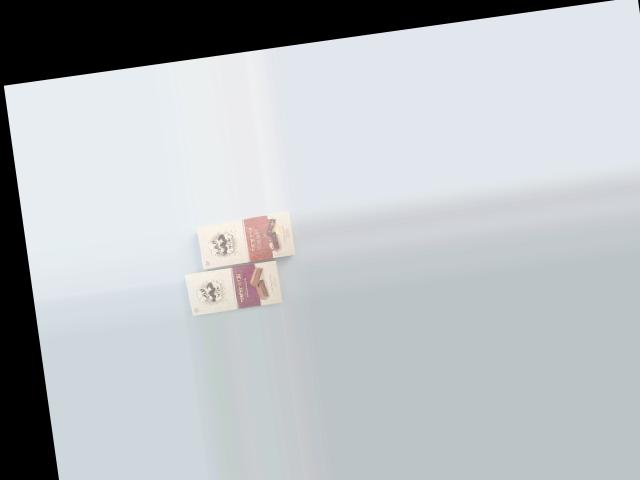chocolate: (191, 209, 299, 279)
